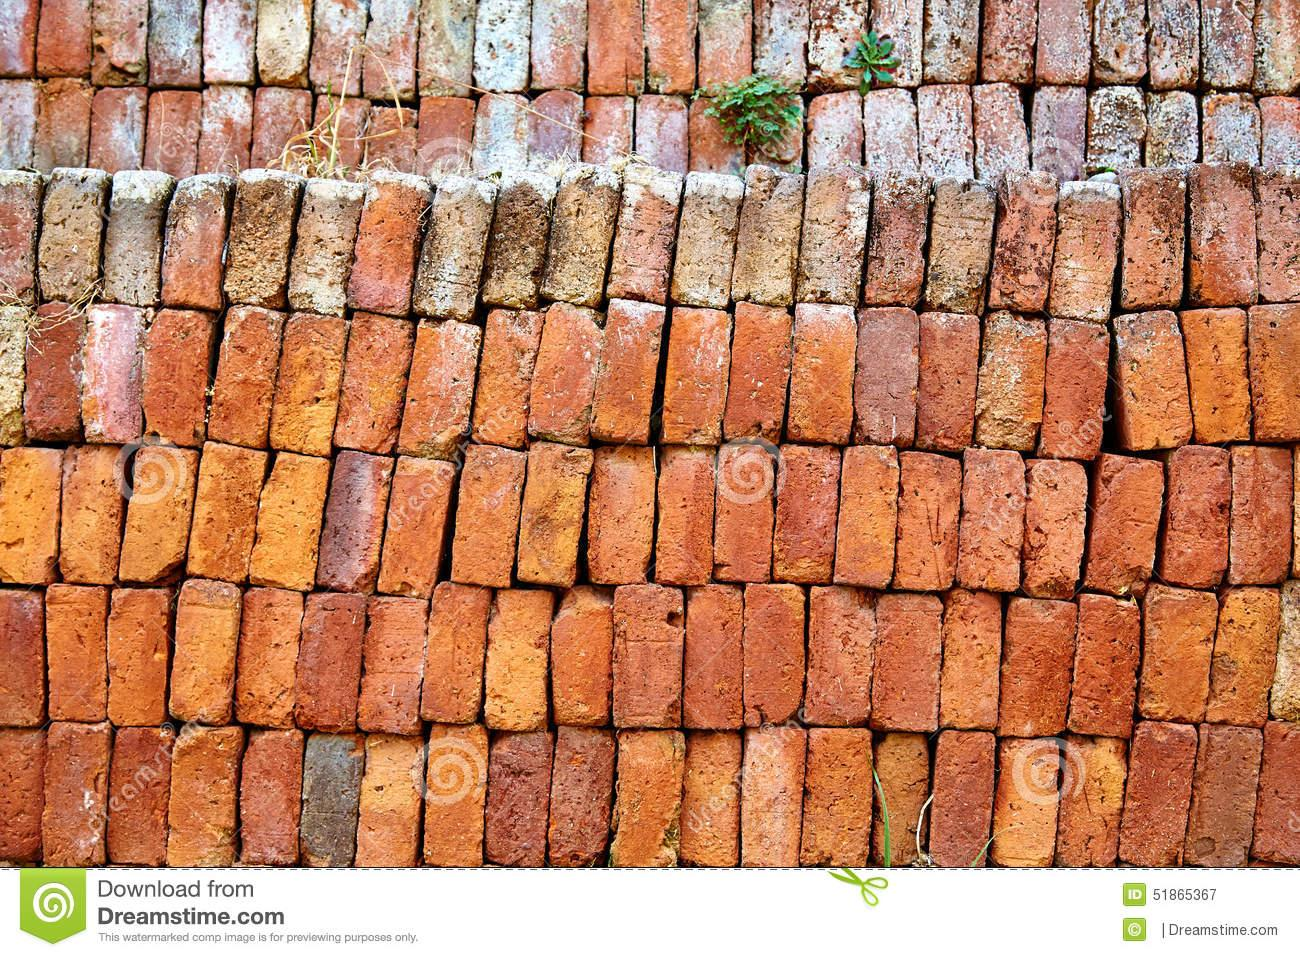brick: (398, 318, 482, 461), (414, 175, 496, 320), (268, 311, 350, 456), (539, 162, 621, 306), (1119, 722, 1199, 866), (208, 304, 287, 449), (377, 455, 456, 600), (348, 172, 428, 314), (186, 439, 266, 579), (588, 298, 666, 443), (1184, 724, 1263, 867), (1085, 453, 1164, 596), (1139, 582, 1218, 722), (334, 312, 413, 452), (1113, 311, 1193, 449), (249, 451, 329, 590), (517, 441, 592, 587), (318, 450, 394, 596), (997, 597, 1076, 736), (528, 301, 604, 445), (287, 177, 364, 317), (223, 168, 301, 306), (794, 163, 870, 304), (608, 165, 683, 306), (120, 445, 198, 582), (451, 445, 526, 588), (167, 725, 241, 866), (480, 171, 557, 308), (730, 165, 804, 304), (1205, 588, 1281, 725), (1067, 594, 1140, 736), (171, 578, 241, 725), (611, 731, 686, 867), (613, 583, 683, 729), (1188, 163, 1259, 306), (1038, 319, 1110, 458), (871, 593, 944, 732), (799, 728, 872, 867), (925, 176, 998, 313), (975, 310, 1047, 450), (421, 581, 492, 723), (724, 301, 793, 444), (1161, 444, 1230, 588), (296, 593, 367, 732), (356, 597, 429, 734), (1050, 181, 1120, 321), (804, 586, 875, 726), (956, 449, 1025, 592), (473, 310, 546, 446), (101, 171, 175, 305), (235, 587, 304, 729), (787, 304, 856, 445), (484, 591, 553, 732), (41, 722, 108, 867), (893, 450, 962, 591), (672, 171, 743, 307), (587, 445, 656, 583), (142, 308, 212, 444), (662, 307, 731, 444), (740, 726, 806, 867), (354, 734, 425, 867), (161, 174, 230, 310), (988, 172, 1056, 310), (834, 445, 899, 588), (548, 725, 614, 867), (1183, 308, 1252, 443), (774, 445, 841, 584), (108, 727, 175, 866), (1021, 460, 1088, 599), (424, 725, 489, 867), (853, 307, 919, 444), (929, 731, 995, 867), (40, 168, 108, 301), (484, 732, 551, 867), (864, 169, 930, 306), (1057, 738, 1126, 867), (82, 302, 145, 443), (1121, 169, 1186, 307), (743, 582, 804, 727), (60, 446, 123, 584), (106, 590, 171, 725), (1229, 445, 1292, 584), (940, 590, 1001, 731), (992, 739, 1060, 867), (0, 448, 64, 584), (240, 729, 304, 865), (682, 584, 742, 729), (917, 313, 979, 450), (301, 732, 363, 866), (25, 303, 87, 439), (45, 584, 106, 721), (715, 443, 774, 581), (552, 584, 612, 723), (680, 732, 741, 867), (657, 446, 716, 584), (1251, 719, 1300, 865), (875, 733, 929, 864), (1249, 303, 1300, 438), (1255, 166, 1300, 301), (0, 589, 44, 725), (0, 728, 46, 858), (310, 0, 368, 95), (363, 0, 419, 99), (1087, 85, 1148, 175), (473, 0, 532, 93), (974, 84, 1030, 182), (419, 0, 474, 97), (1, 169, 40, 305), (918, 85, 975, 180), (811, 0, 869, 92), (587, 1, 643, 96), (754, 0, 810, 93), (697, 0, 752, 96), (142, 91, 201, 179), (34, 78, 89, 172), (1032, 87, 1086, 179), (311, 96, 370, 180), (1036, 0, 1095, 84), (531, 0, 586, 90), (196, 86, 252, 174), (249, 88, 310, 169), (923, 0, 979, 86), (91, 0, 147, 86), (416, 96, 474, 179), (644, 1, 696, 93), (89, 88, 145, 172), (1147, 0, 1199, 89), (1092, 0, 1148, 84), (869, 0, 923, 87), (1201, 0, 1255, 86), (257, 0, 310, 87), (1252, 0, 1300, 94), (982, 0, 1037, 82), (865, 89, 918, 170), (807, 91, 863, 169), (1202, 92, 1260, 166), (475, 94, 529, 173), (204, 0, 255, 82), (150, 1, 200, 86), (690, 97, 744, 175), (35, 0, 90, 76), (636, 95, 687, 175), (529, 91, 582, 168), (1146, 92, 1197, 168), (361, 107, 417, 173), (0, 78, 38, 172), (582, 96, 633, 163), (0, 0, 38, 76), (1261, 96, 1300, 166)
